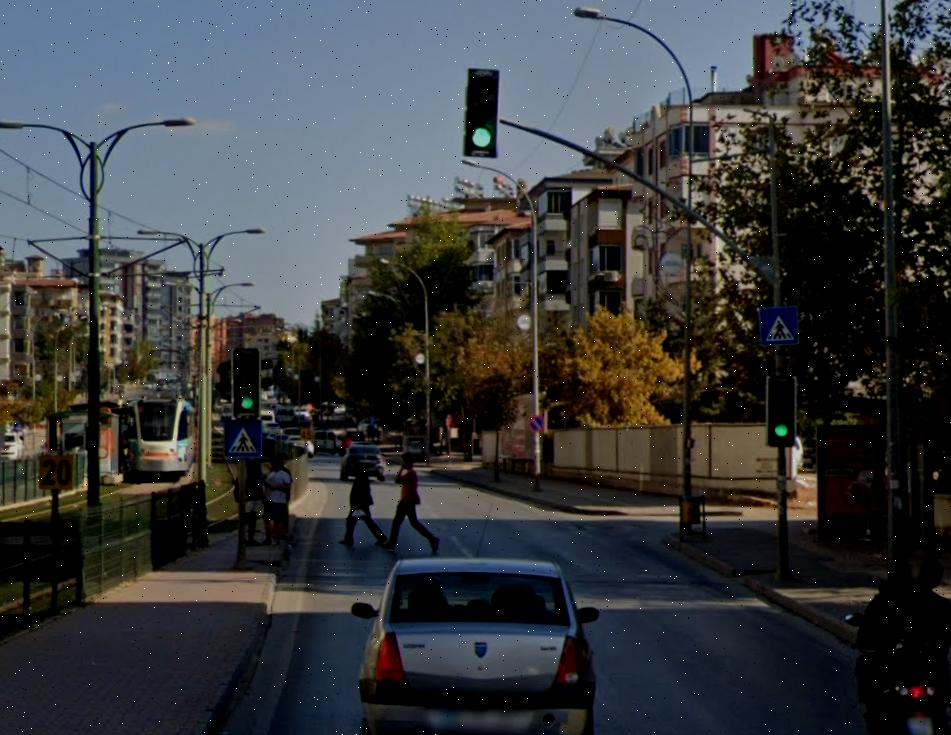greenlight: (464, 72, 502, 151), (231, 344, 262, 417)
nopark: (527, 416, 543, 435)
